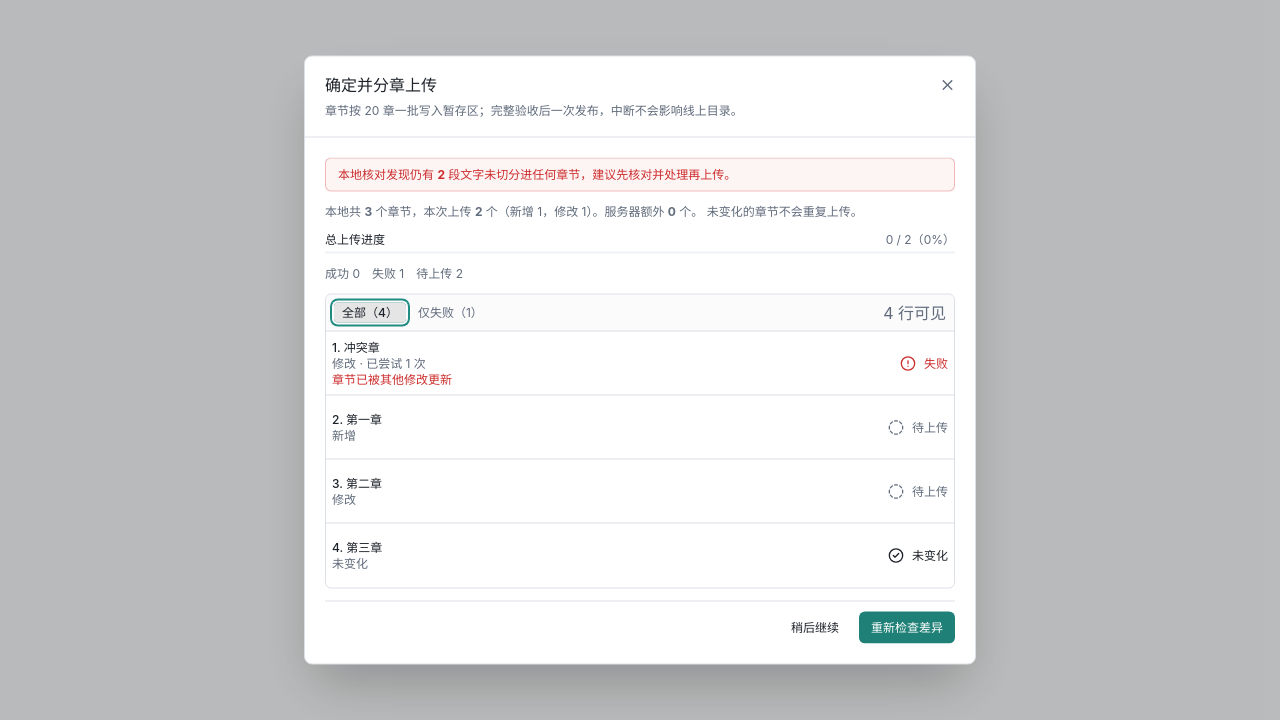
Test: ChapterUploadDialog › 虚拟列表只显示可见行，并可筛选到失败章节
Check: the tab "全部（4）" is shown, box x1=334 y1=302 x2=406 y2=322
Check: the text "1. 冲突章" is shown, box x1=332 y1=339 x2=380 y2=354
Step 1. Click the tab "仅失败（1）" → (450, 312), box x1=410 y1=302 x2=491 y2=322
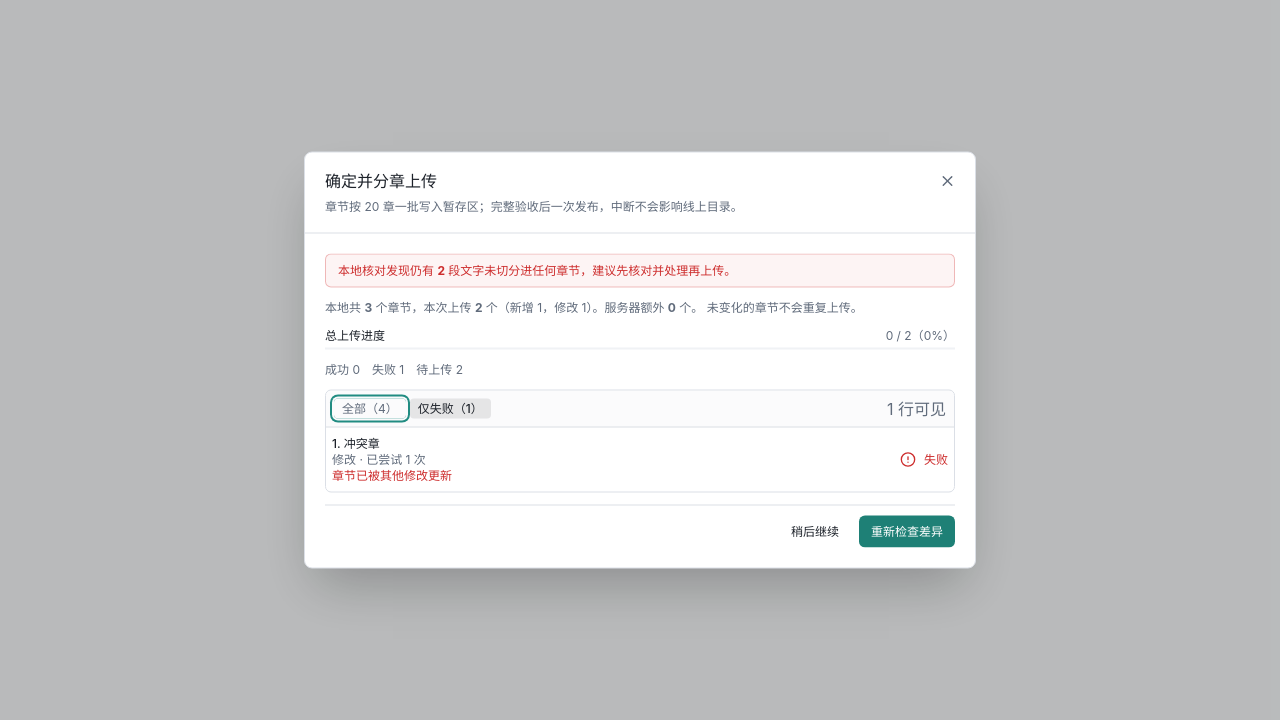
Check: the text "1. 冲突章" is shown, box x1=332 y1=436 x2=380 y2=450
Check: the text "第一章" is gone
Check: the text "1 行可见" is shown, box x1=887 y1=396 x2=946 y2=420
